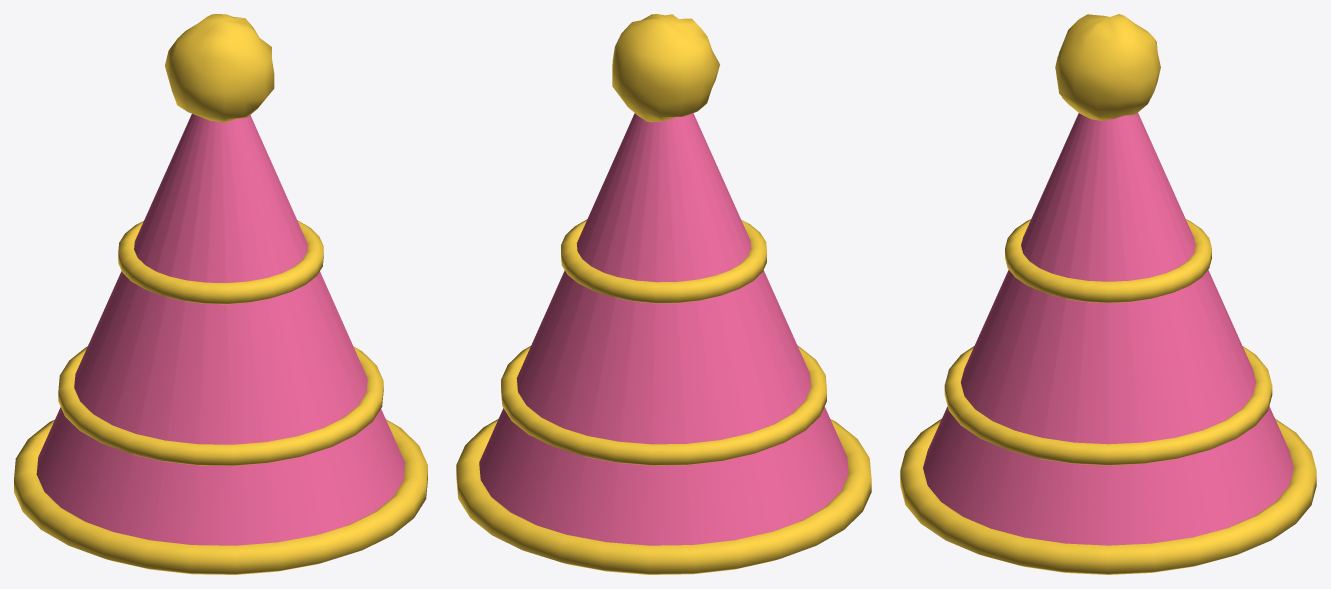
Rendered from party_hat.glb.
3 renders of one model, left to right at view 1: azimuth 30°, elevation 25°; view 2: azimuth 150°, elevation 25°; view 3: azimuth 270°, elevation 25°, orthographic.
Visible parts, largest first — view 1: cone, rim, pompom, stripe, stripe.001; view 2: cone, rim, pompom, stripe, stripe.001; view 3: cone, rim, pompom, stripe, stripe.001.
Boxes of the visible parts, bbox=[...] form: cone: bbox=[36, 114, 405, 545]; rim: bbox=[14, 419, 427, 574]; pompom: bbox=[165, 14, 274, 122]; stripe: bbox=[58, 346, 383, 465]; stripe.001: bbox=[118, 220, 323, 304]; cone: bbox=[479, 113, 848, 545]; rim: bbox=[456, 419, 871, 574]; pompom: bbox=[612, 14, 719, 122]; stripe: bbox=[501, 345, 826, 465]; stripe.001: bbox=[561, 219, 766, 303]; cone: bbox=[923, 113, 1293, 545]; rim: bbox=[900, 418, 1316, 574]; pompom: bbox=[1055, 14, 1160, 120]; stripe: bbox=[944, 346, 1272, 465]; stripe.001: bbox=[1005, 219, 1211, 302].
Size of the model in its own units: 0.772 by 0.9718 by 0.772.
